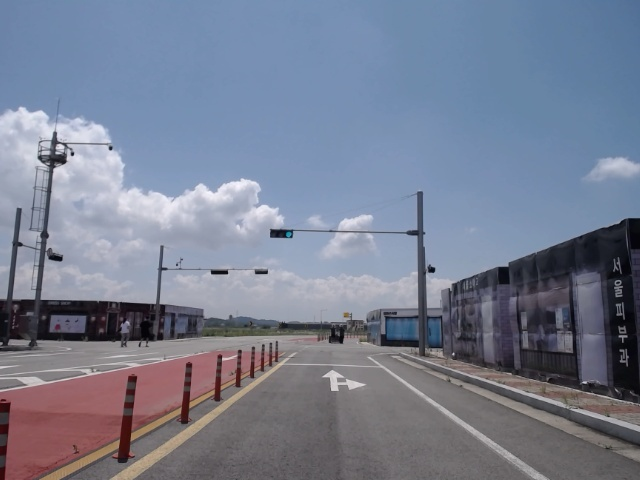green_3: (270, 229, 292, 238)
